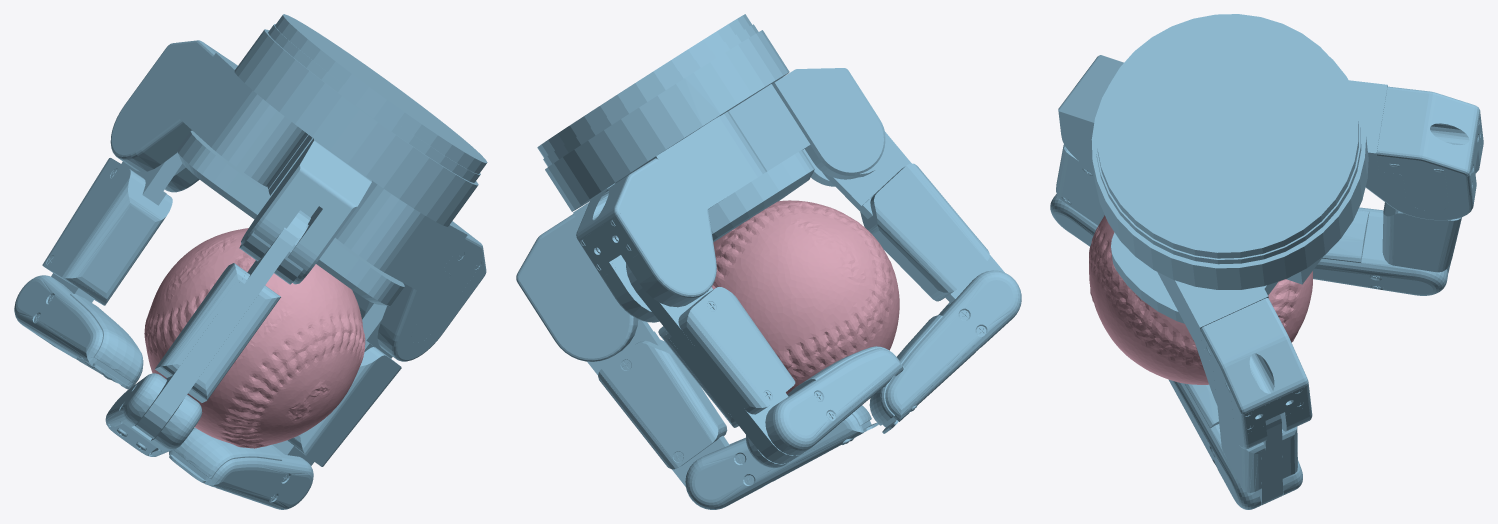
3 views of the same model, side by side, from view 1: azimuth 30°, elevation 25°; view 2: azimuth 150°, elevation 25°; view 3: azimuth 270°, elevation 25° (orthographic). The views are drawn at different scales.
Parts seen in each view (by area): view 1: world; view 2: world; view 3: world.
Part boxes in pixels (<box>): world: <box>14,14,487,509</box>; world: <box>516,14,1021,509</box>; world: <box>1050,14,1483,509</box>.
Bounding box in the file's own units: 0.1668 × 0.1775 × 0.1403.
